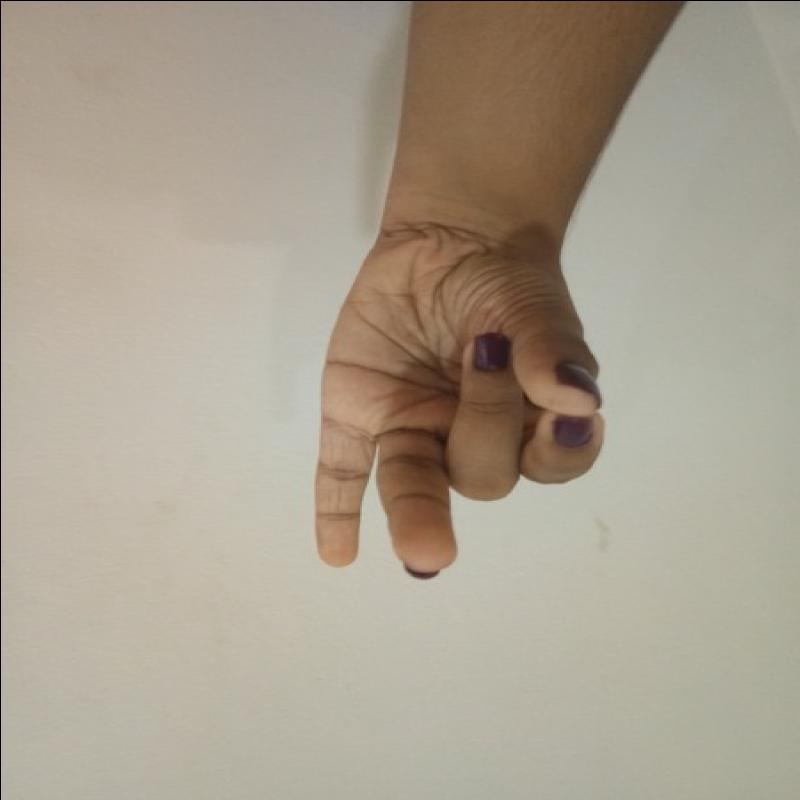Katakam: (275, 212, 630, 595)
